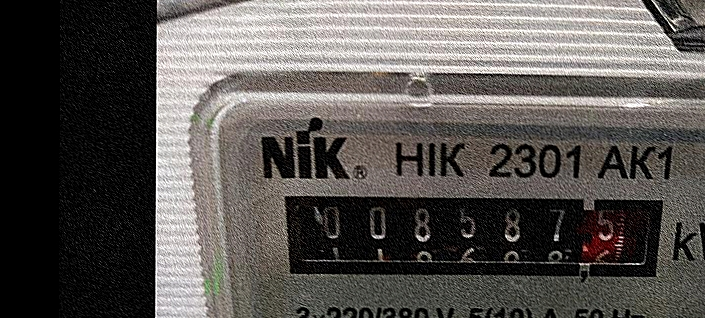0: (365, 201, 389, 241)
1: (319, 201, 343, 242)
5: (594, 203, 618, 243), (456, 203, 479, 241)
7: (545, 204, 568, 245)
8: (409, 203, 434, 244), (501, 204, 522, 245)
screen: (264, 176, 683, 297)
